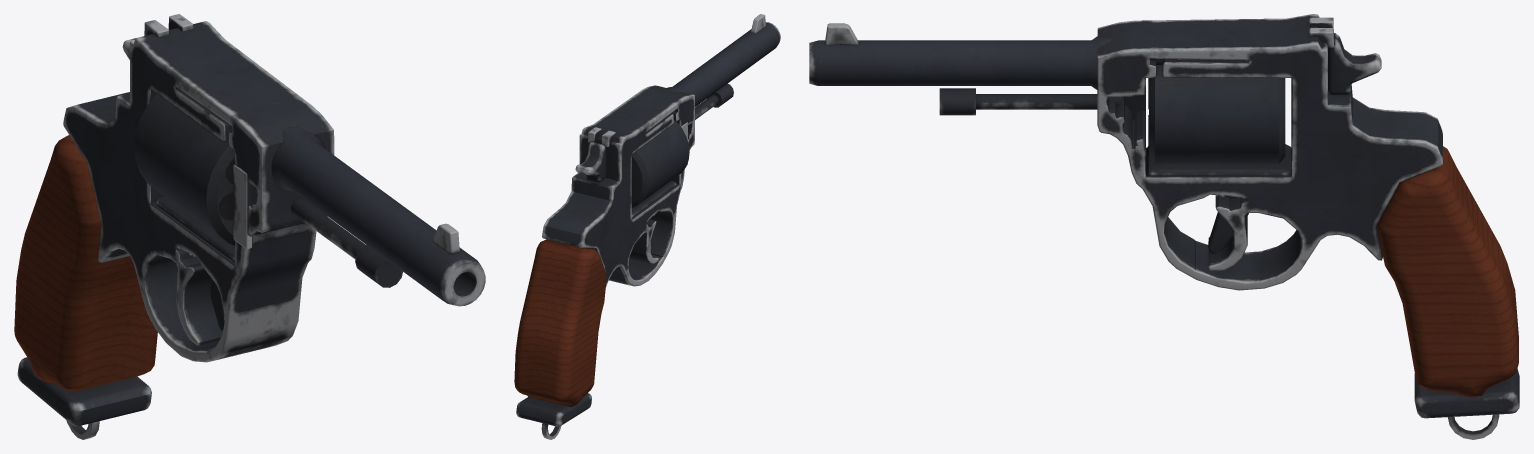
File: pistol_r1895.glb
The picture shows the model from 3 angles, left to right: view 1: azimuth 30°, elevation 25°; view 2: azimuth 150°, elevation 25°; view 3: azimuth 270°, elevation 25°; orthographic projection. The views are drawn at different scales.
Parts seen in each view (by area): view 1: body, mag_mesh; view 2: body, mag_mesh, bolt_mesh; view 3: body, mag_mesh, bolt_mesh.
Part boxes in pixels (x1=…): body: x1=14, y1=14, x2=485, y2=439; mag_mesh: x1=134, y1=93, x2=257, y2=245; body: x1=514, y1=14, x2=780, y2=439; mag_mesh: x1=631, y1=120, x2=689, y2=207; bolt_mesh: x1=575, y1=142, x2=606, y2=182; body: x1=809, y1=14, x2=1519, y2=439; mag_mesh: x1=1148, y1=65, x2=1285, y2=163; bolt_mesh: x1=1328, y1=33, x2=1381, y2=94.
Size of the model in its own units: 0.039 by 0.1505 by 0.2343.
1 material, 1 textured.
